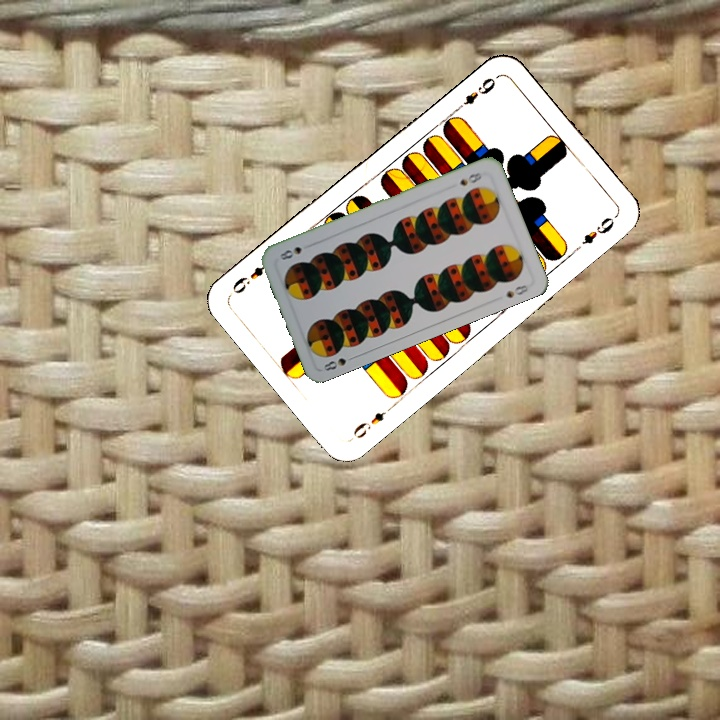E9: (452, 72, 501, 114), (349, 401, 397, 442)
S8: (319, 352, 358, 374), (456, 168, 484, 189)
